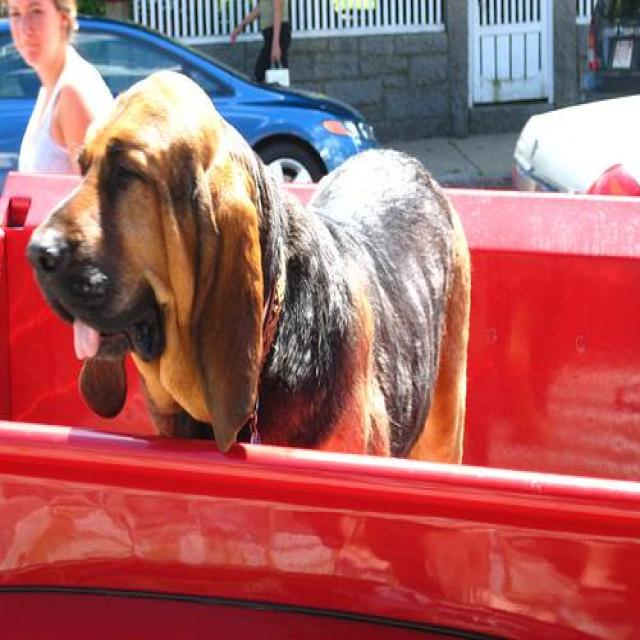bloodhound: (27, 72, 472, 484)
